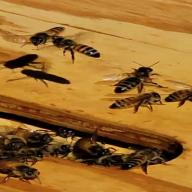Bee: (50, 35, 108, 63), (118, 147, 172, 177), (115, 62, 162, 94), (106, 91, 164, 116), (27, 25, 74, 47)
